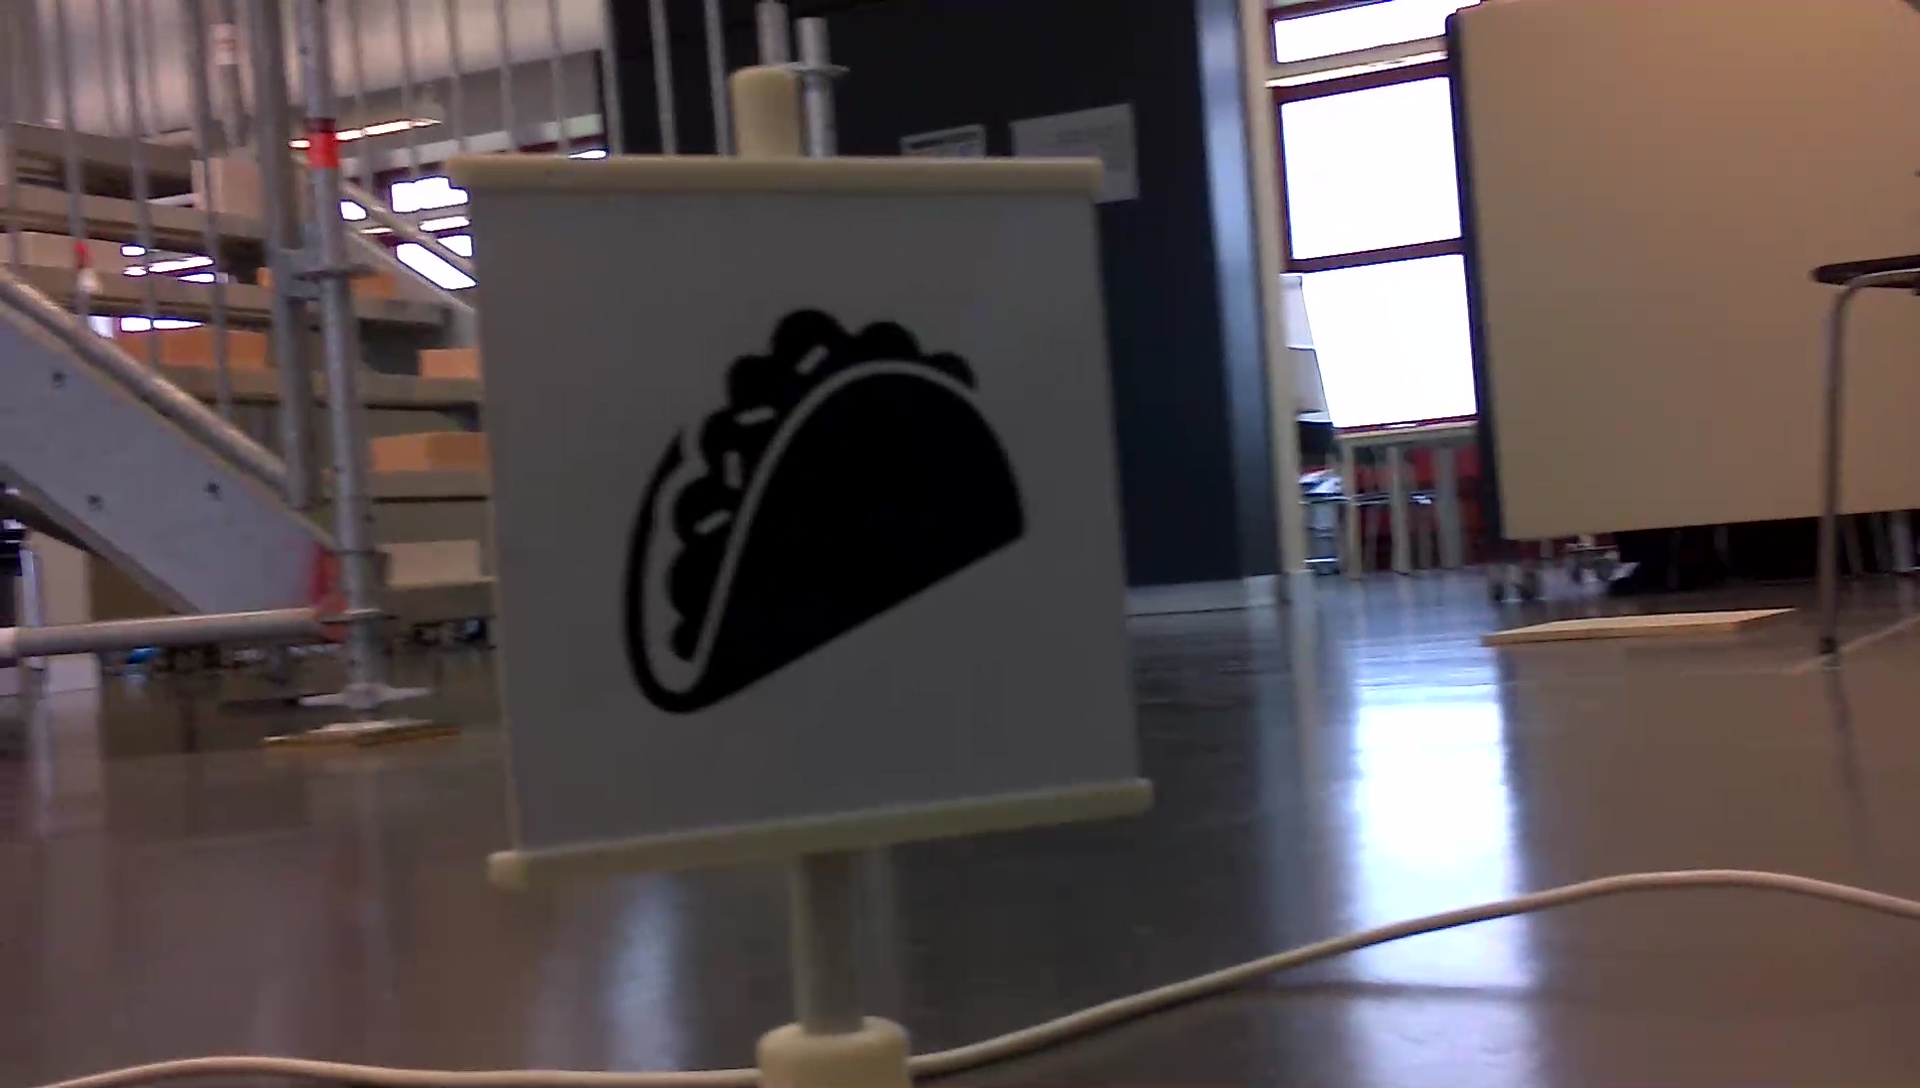brick: (371, 430, 485, 471), (390, 539, 477, 582), (425, 348, 483, 378)
taco: (603, 295, 1043, 723)
